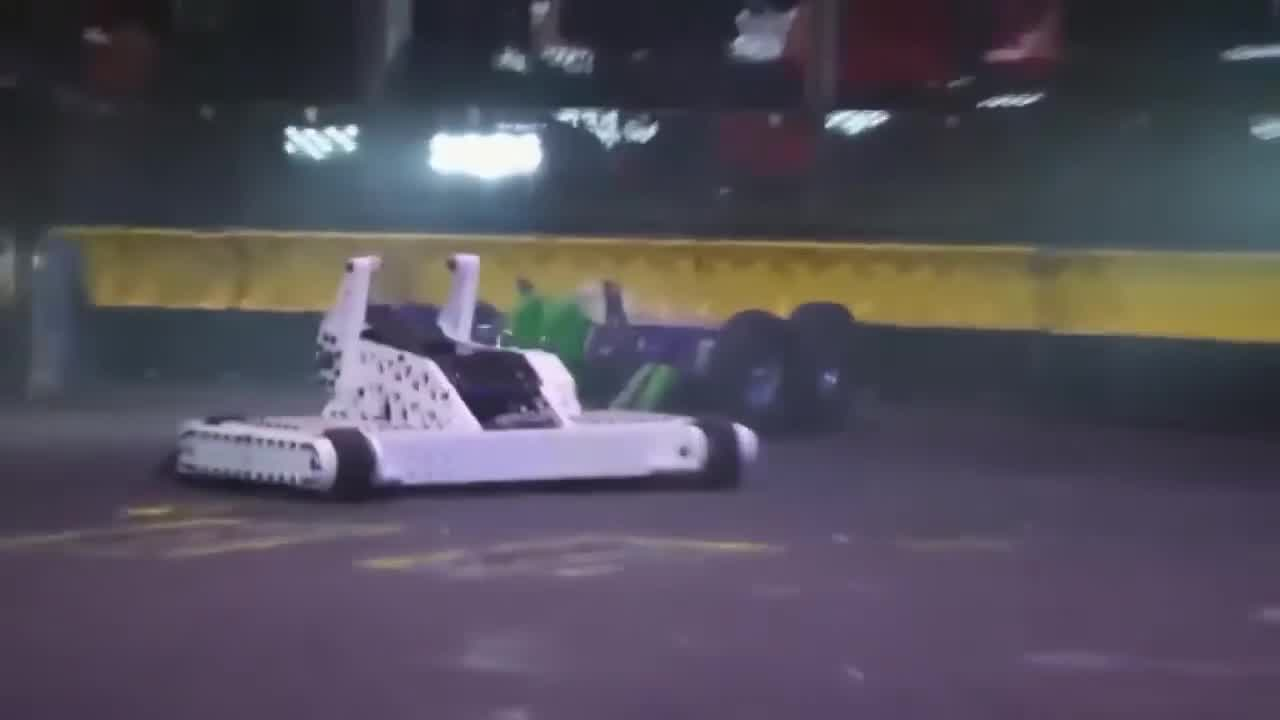combatbot: (160, 245, 767, 503), (473, 277, 856, 419)
